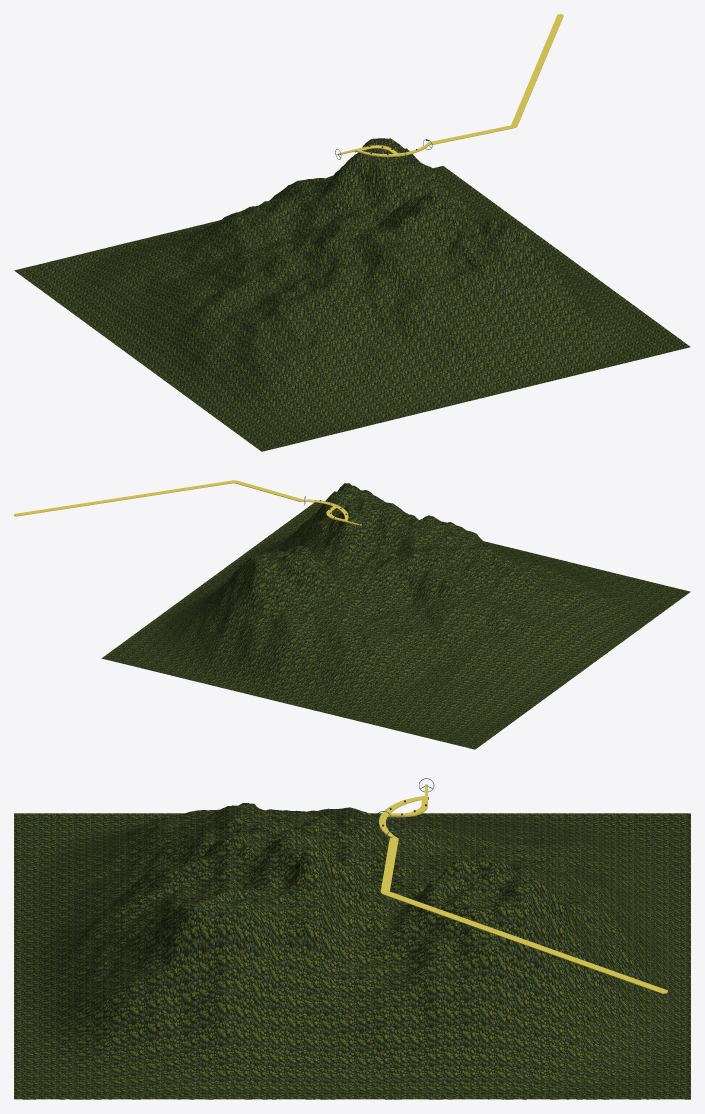
File: hest.glb
3 views of the same model, one above another, from view 1: azimuth 30°, elevation 25°; view 2: azimuth 150°, elevation 25°; view 3: azimuth 270°, elevation 25° (orthographic). The views are drawn at different scales.
Visible parts, largest first — view 1: Landscape, platform; view 2: Landscape, platform; view 3: Landscape, platform.
Boxes of the visible parts, x1=… form: Landscape: x1=14, y1=138, x2=690, y2=451; platform: x1=337, y1=14, x2=563, y2=156; Landscape: x1=101, y1=483, x2=690, y2=749; platform: x1=14, y1=480, x2=361, y2=525; Landscape: x1=14, y1=803, x2=690, y2=1099; platform: x1=379, y1=784, x2=667, y2=993.
Bounding box in the file's own units: 1110 × 269 × 883.
11 materials, 2 textured.
